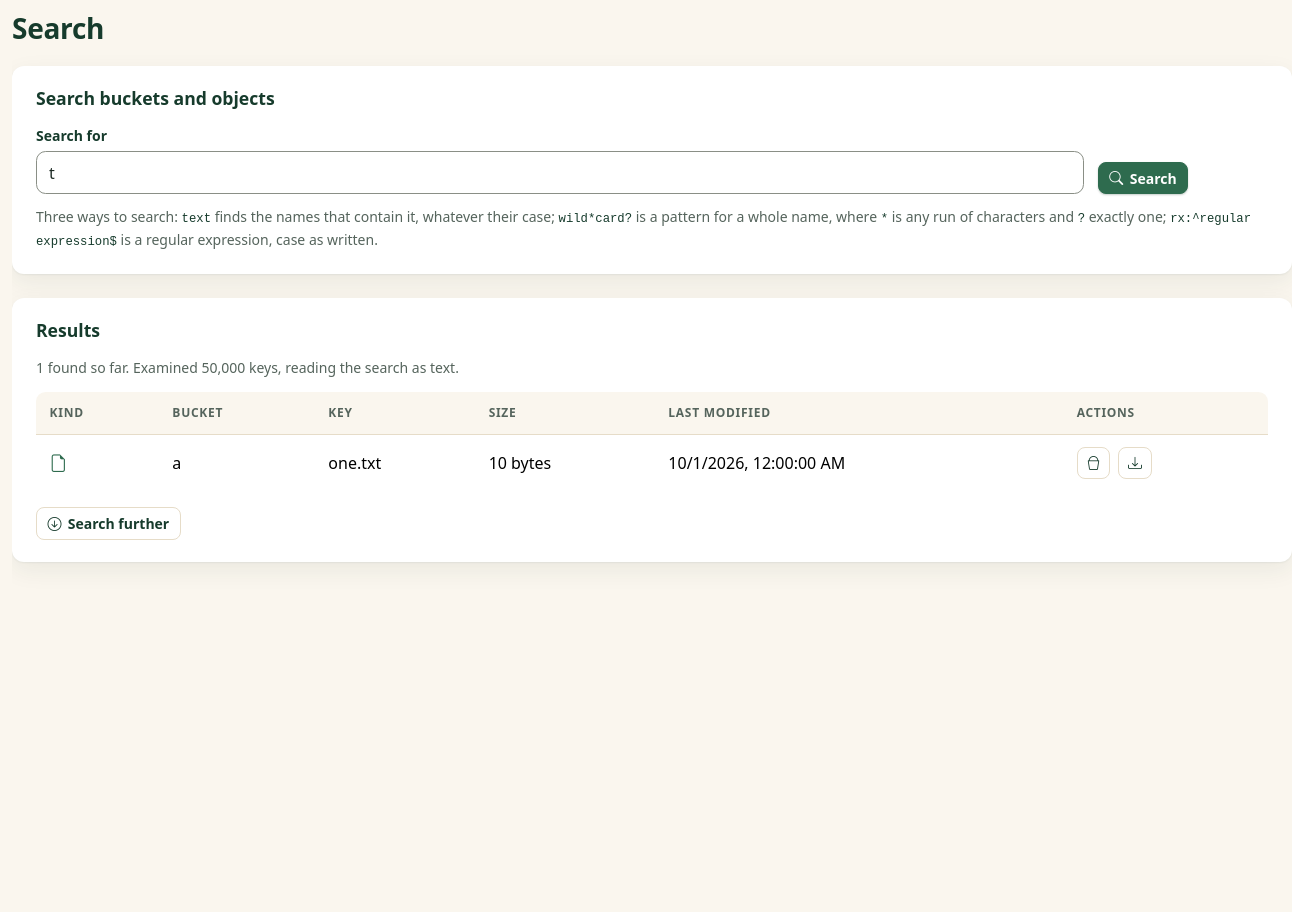
search › goes on where a search stopped and adds what it finds to what is there
Expected: the link named "Download one.txt" is shown, [1118,447,1152,479]
Expected: the message shows "1 found so far. Examined 50,000 keys", [36,358,459,377]
A page can be empty and not the last: the button stays.
What coordinates should you click on to do the following:
click the button "Search further"
I would click on:
 (108, 524)
Its box is [36,507,181,540].
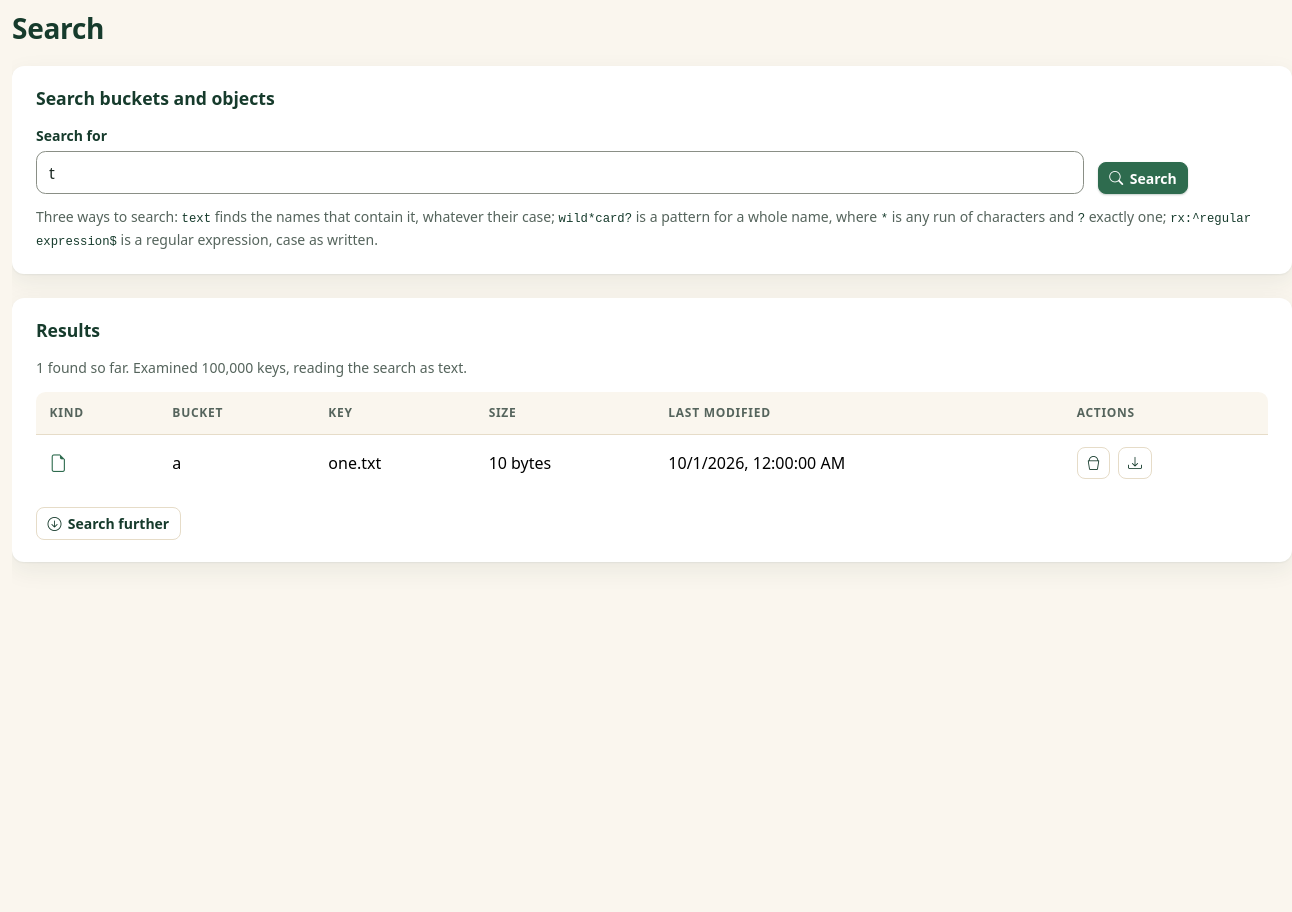
Expected: the message shows "1 found so far.", [36,358,129,377]
Now the message shows "Examined 100,000 keys", box [36,358,467,377]
What coordinates should you click on to do the following:
click the button "Search further"
I would click on:
 (108, 524)
Its box is [36,507,181,540].
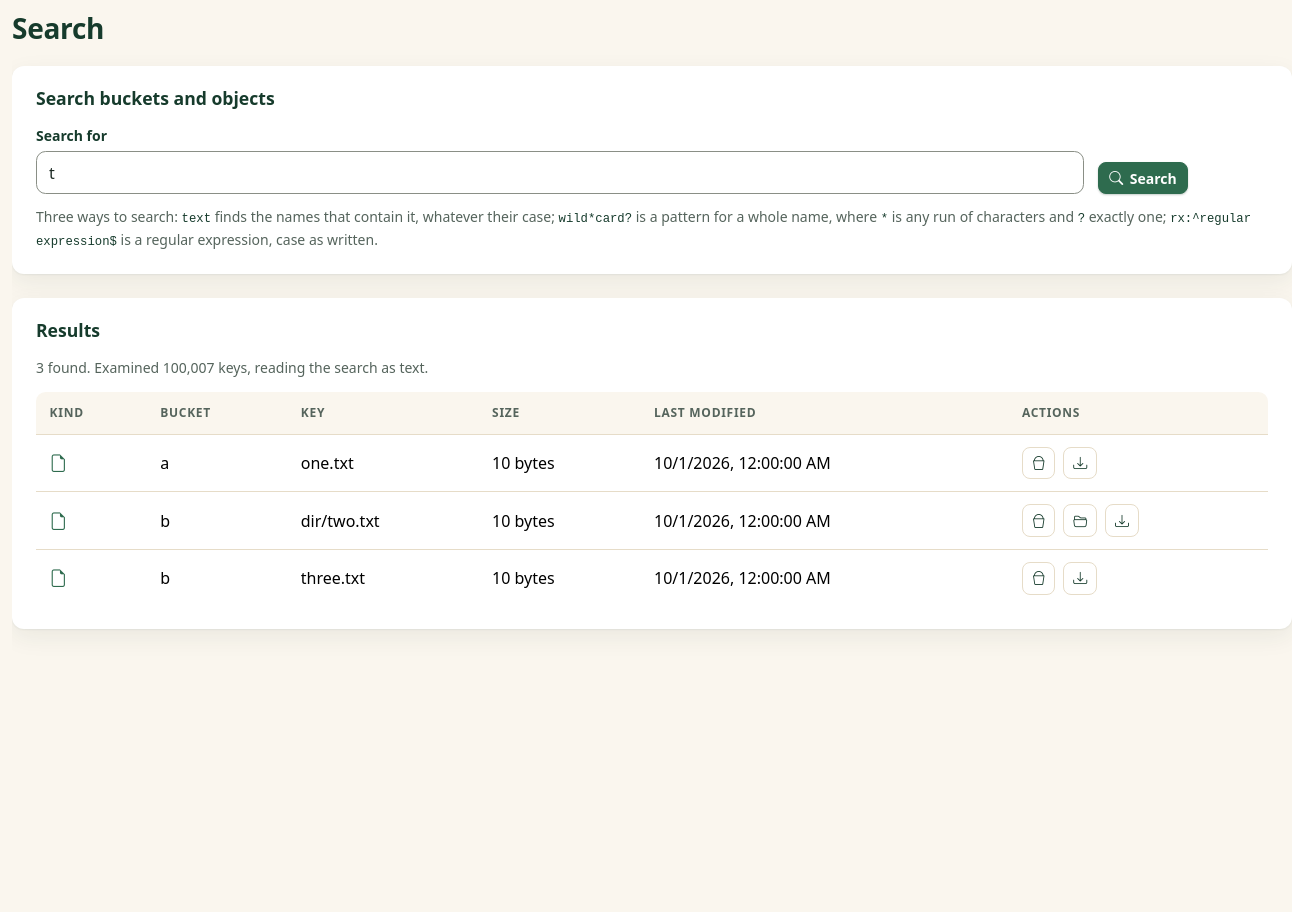
Now the link named "Download dir/two.txt" is shown, box [1105,504,1139,537]
Now the message shows "3 found. Examined 100,007 keys", box [36,358,428,377]
Now the button "Search further" is gone
